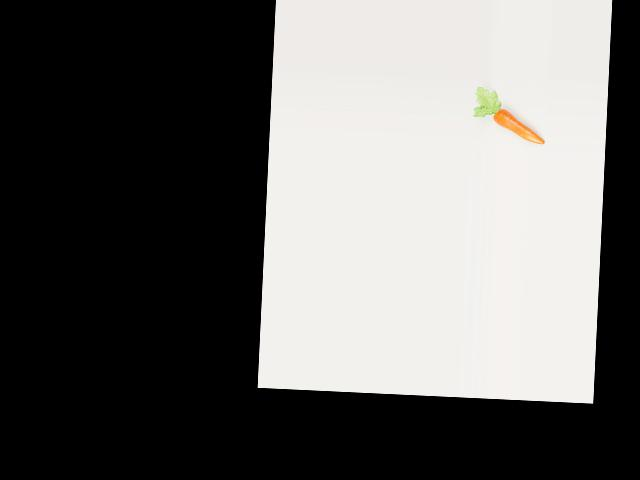carrot: (485, 102, 549, 146)
